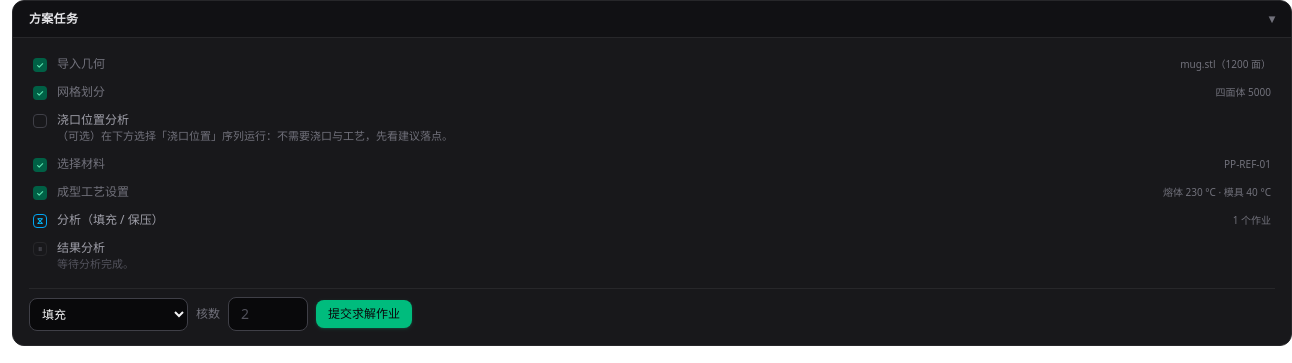
Test: StudyTasksPanel（方案任务窗格） › 分析排队中右键：取消作业同样可用（⧖ 态）
Right-click the button "⧖ 分析（填充 / 保压） 1 个作业" at (110, 220), box [29, 208, 1275, 232]
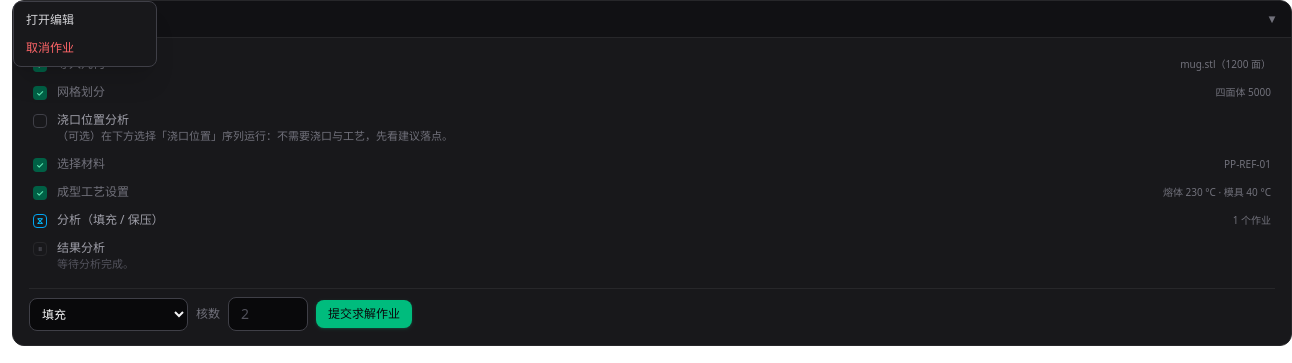
Result: the buttons read "打开编辑", "取消作业", in this order at [14, 6, 156, 34]; [14, 34, 156, 62]
